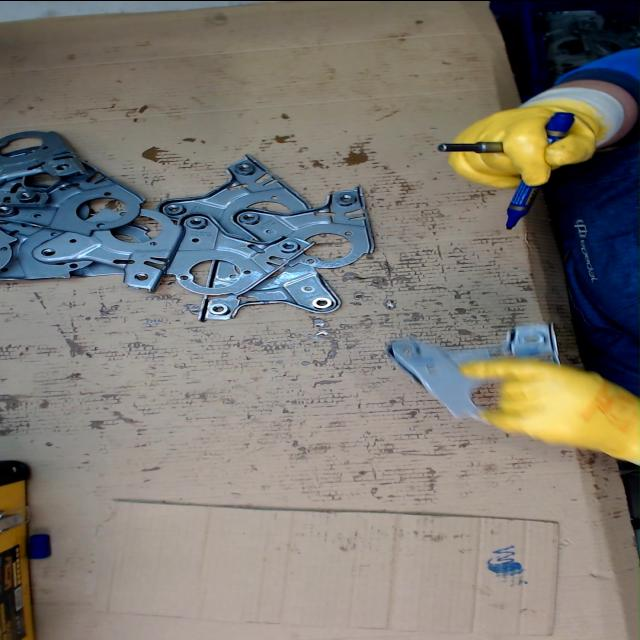hands: (458, 358, 628, 444), (446, 102, 606, 188)
